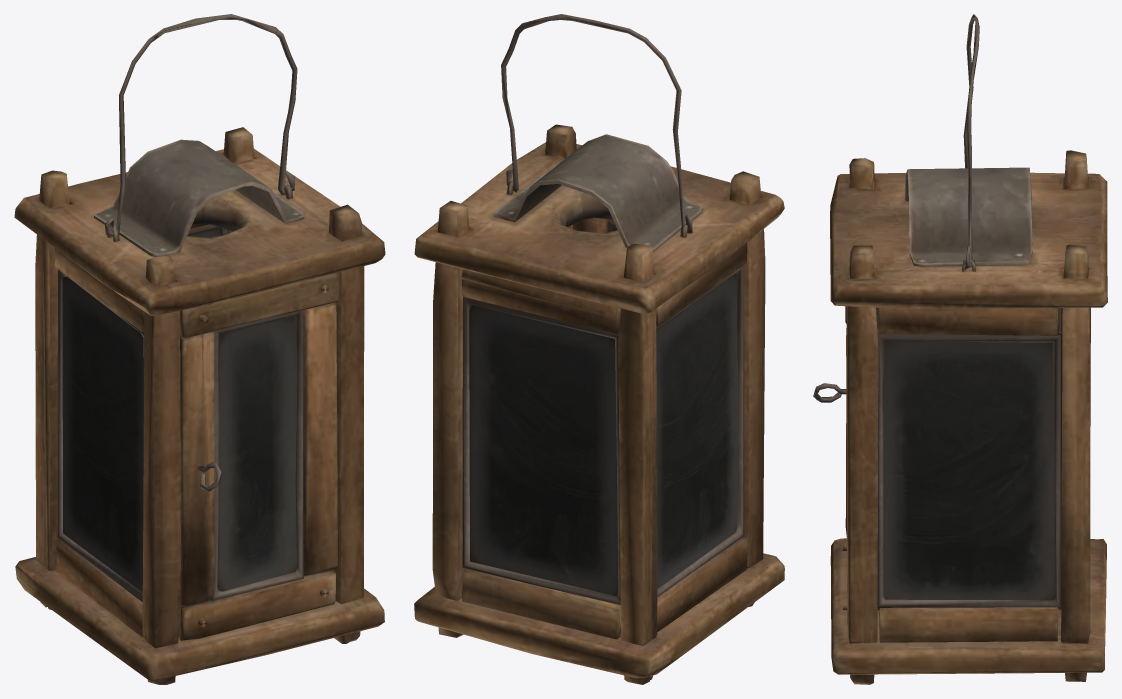
The model's file is wooden_lantern_01.glb.
3 views of the same model, side by side, from view 1: azimuth 30°, elevation 25°; view 2: azimuth 150°, elevation 25°; view 3: azimuth 270°, elevation 25° (orthographic).
Parts seen in each view (by area): view 1: wooden_lantern_01; view 2: wooden_lantern_01; view 3: wooden_lantern_01.
Boxes of the visible parts, x1,y1,x2,y2 form: wooden_lantern_01: (14, 14, 385, 684); wooden_lantern_01: (414, 14, 784, 684); wooden_lantern_01: (813, 14, 1107, 684).
Bounding box in the file's own units: 0.221 × 0.5296 × 0.2337.
Materials: 2 (2 with a texture image).
